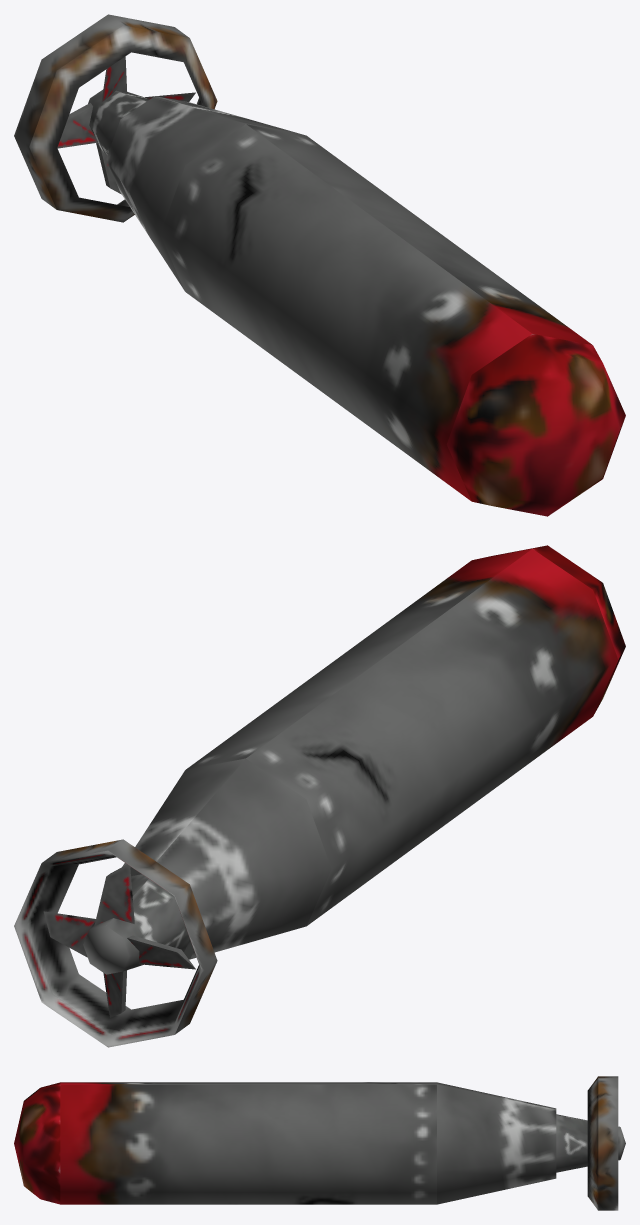
File: gyorai.fbx
3 renders of one model, top to bottom at view 1: azimuth 30°, elevation 25°; view 2: azimuth 150°, elevation 25°; view 3: azimuth 270°, elevation 25°, orthographic. The views are drawn at different scales.
Parts seen in each view (by area): view 1: pCylinder10; view 2: pCylinder10; view 3: pCylinder10.
Boxes of the visible parts, x1,y1,x2,y2 form: pCylinder10: [14, 14, 625, 516]; pCylinder10: [14, 545, 625, 1047]; pCylinder10: [14, 1076, 625, 1210].
Bounding box in the file's own units: 0.9353 × 0.9353 × 4.
